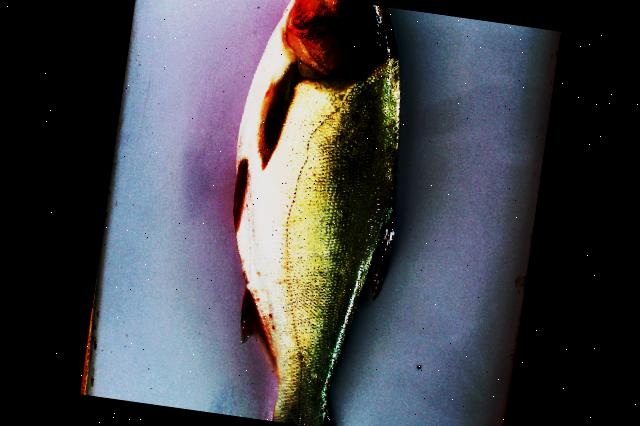Healthy Fish: (233, 0, 400, 426)
